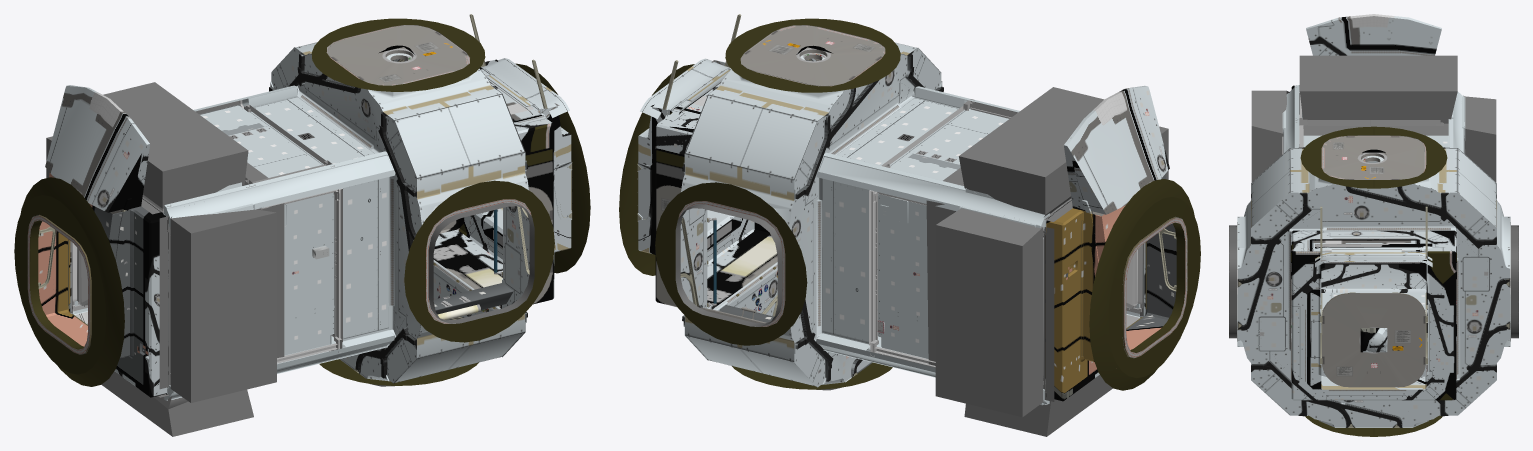
The picture shows the model from 3 angles, left to right: view 1: azimuth 30°, elevation 25°; view 2: azimuth 150°, elevation 25°; view 3: azimuth 270°, elevation 25°; orthographic projection. The views are drawn at different scales.
Parts seen in each view (by area): view 1: Node2_CrrQtr_NoLookum, Node2_Int_Metals, Node2_Int_Bulkhead.FWD, Node2_Int_Rack.SBD, Node2_Int_Rack.ZTH, Node2_Int_Hub.NDR, Node2_Int_Bulkhead.AFT, Node2_Int_Hub.FWD, Node2_Int_Metal_Hatch_Zenith, Node2_Int_Hub.SBD, Node2_Int_Hub.AFT, Node2_Int_Rack.NDR (+1 smaller); view 2: Node2_CrrQtr_NoLookum, Node2_Int_Metals, Node2_Int_Bulkhead.FWD, Node2_Int_Rack.PRT, Node2_Int_Rack.ZTH, Node2_Int_Hub.PRT, Node2_Int_Bulkhead.AFT, Node2_Int_Hub.FWD, Node2_Int_Metal_Hatch_Zenith, Node2_Int_Hub.AFT, Node2_Int_Hub.ZNH, Node2_Int_Rack.NDR (+1 smaller); view 3: Node2_Int_Hub.AFT, Node2_Int_Bulkhead.AFT, Node2_CrrQtr_NoLookum, Node2_Int_Metal_Hatch_Fwd_Closed, Node2_Int_Metals, Node2_Int_Bulkhead.FWD, Node2_Int_Metal_Hatch_Zenith, Node2_Int_Hub.NDR, Node2_Int_Hub.PRT, Node2_Int_Rack.ZTH, Node2_Int_Rack.NDR, Node2_Int_Hub.FWD.
Part boxes in pixels (left/top/right/bottom): Node2_CrrQtr_NoLookum: left=46, top=82, right=284, bottom=436; Node2_Int_Metals: left=14, top=14, right=590, bottom=398; Node2_Int_Bulkhead.FWD: left=38, top=85, right=168, bottom=397; Node2_Int_Rack.SBD: left=170, top=177, right=394, bottom=376; Node2_Int_Rack.ZTH: left=143, top=85, right=395, bottom=227; Node2_Int_Hub.NDR: left=368, top=45, right=528, bottom=224; Node2_Int_Bulkhead.AFT: left=433, top=58, right=571, bottom=308; Node2_Int_Hub.FWD: left=269, top=47, right=421, bottom=383; Node2_Int_Metal_Hatch_Zenith: left=327, top=25, right=468, bottom=85; Node2_Int_Hub.SBD: left=367, top=283, right=525, bottom=382; Node2_Int_Hub.AFT: left=392, top=59, right=529, bottom=357; Node2_Int_Rack.NDR: left=71, top=308, right=395, bottom=409; Node2_CrrQtr_NoLookum: left=926, top=87, right=1168, bottom=436; Node2_Int_Metals: left=619, top=14, right=1200, bottom=390; Node2_Int_Bulkhead.FWD: left=1044, top=85, right=1176, bottom=401; Node2_Int_Rack.PRT: left=817, top=179, right=1043, bottom=376; Node2_Int_Rack.ZTH: left=816, top=86, right=1071, bottom=229; Node2_Int_Hub.PRT: left=681, top=69, right=843, bottom=226; Node2_Int_Bulkhead.AFT: left=638, top=58, right=777, bottom=309; Node2_Int_Hub.FWD: left=789, top=48, right=943, bottom=387; Node2_Int_Metal_Hatch_Zenith: left=740, top=25, right=885, bottom=86; Node2_Int_Hub.AFT: left=680, top=58, right=816, bottom=360; Node2_Int_Hub.ZNH: left=685, top=305, right=844, bottom=386; Node2_Int_Rack.NDR: left=816, top=310, right=1142, bottom=405; Node2_Int_Hub.AFT: left=1237, top=184, right=1510, bottom=427; Node2_Int_Bulkhead.AFT: left=1291, top=230, right=1456, bottom=400; Node2_CrrQtr_NoLookum: left=1251, top=55, right=1496, bottom=182; Node2_Int_Metal_Hatch_Fwd_Closed: left=1322, top=293, right=1425, bottom=387; Node2_Int_Metals: left=1229, top=85, right=1518, bottom=436; Node2_Int_Bulkhead.FWD: left=1291, top=14, right=1441, bottom=114; Node2_Int_Metal_Hatch_Zenith: left=1322, top=136, right=1424, bottom=179; Node2_Int_Hub.NDR: left=1237, top=148, right=1385, bottom=268; Node2_Int_Hub.PRT: left=1414, top=148, right=1510, bottom=268; Node2_Int_Rack.ZTH: left=1283, top=85, right=1464, bottom=153; Node2_Int_Rack.NDR: left=1322, top=257, right=1425, bottom=313; Node2_Int_Hub.FWD: left=1244, top=147, right=1503, bottom=376.
Bounding box in the file's own units: 6181 × 3992 × 3759.
5 materials, 5 textured.
